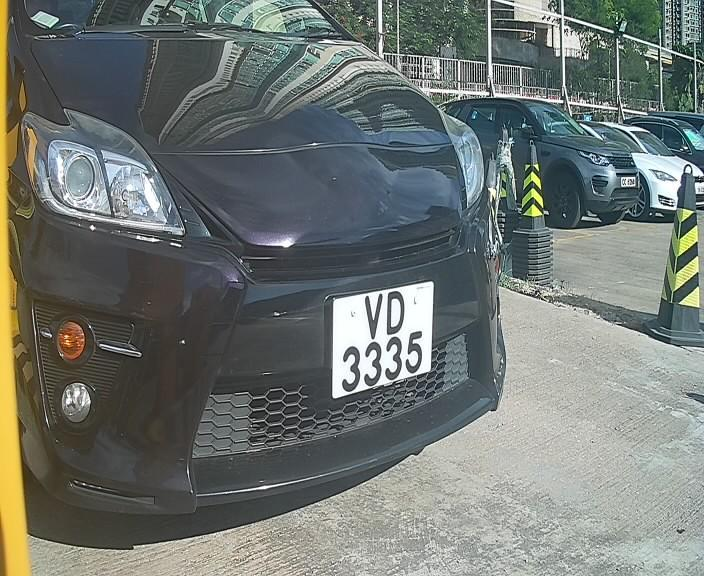privatecar: (7, 8, 516, 515)
